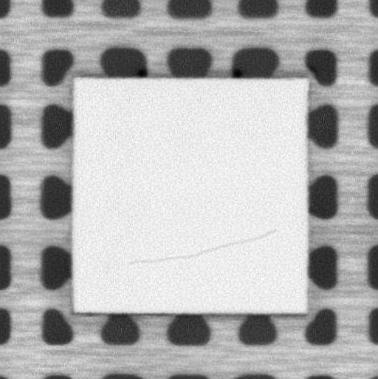DIE_CRACK: (130, 228, 279, 264)
